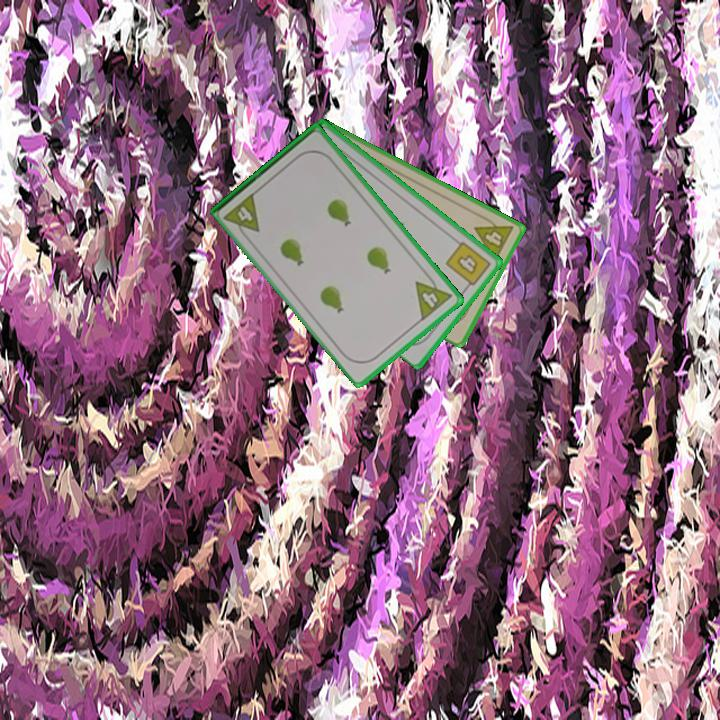4b: (442, 238, 494, 293)
4p: (471, 211, 516, 264), (412, 269, 455, 324), (221, 189, 263, 243)
